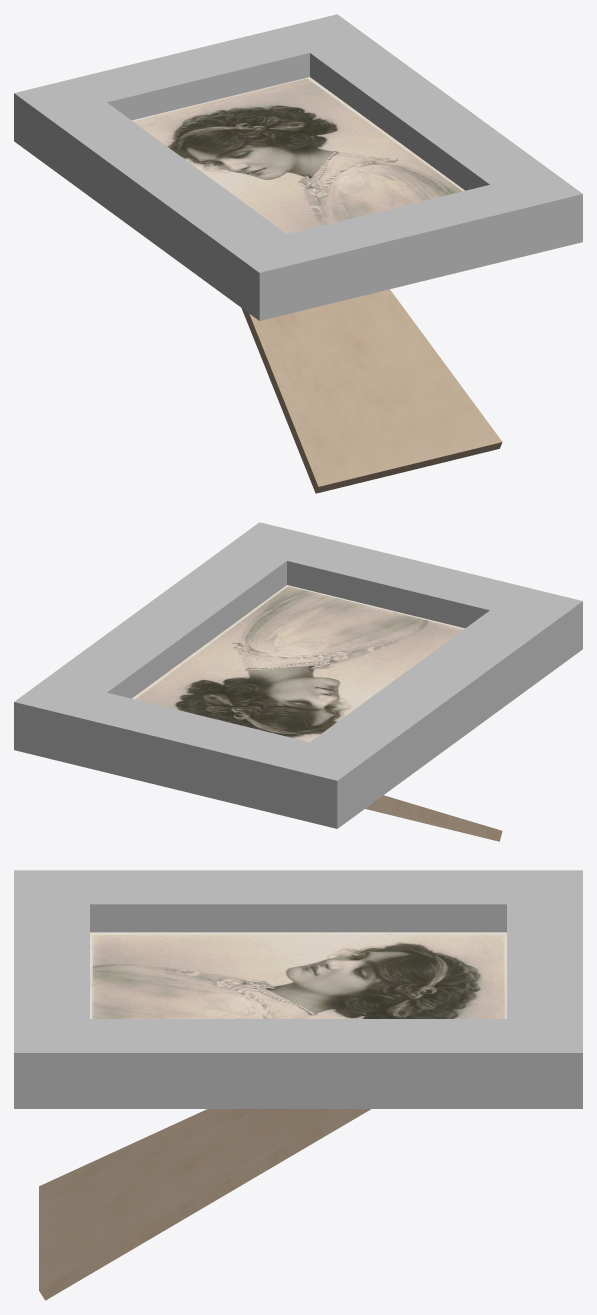
Rendered from PictureFrameD.fbx.
3 views of the same model, one above another, from view 1: azimuth 30°, elevation 25°; view 2: azimuth 150°, elevation 25°; view 3: azimuth 270°, elevation 25° (orthographic). The views are drawn at different scales.
Visible parts, largest first — view 1: Cube; view 2: Cube; view 3: Cube.
Part boxes in pixels (x1,y1,x2,y2): Cube: (14,14,582,493); Cube: (14,522,582,841); Cube: (14,870,582,1300).
Size of the model in its own units: 0.1757 by 0.1286 by 0.2311.
